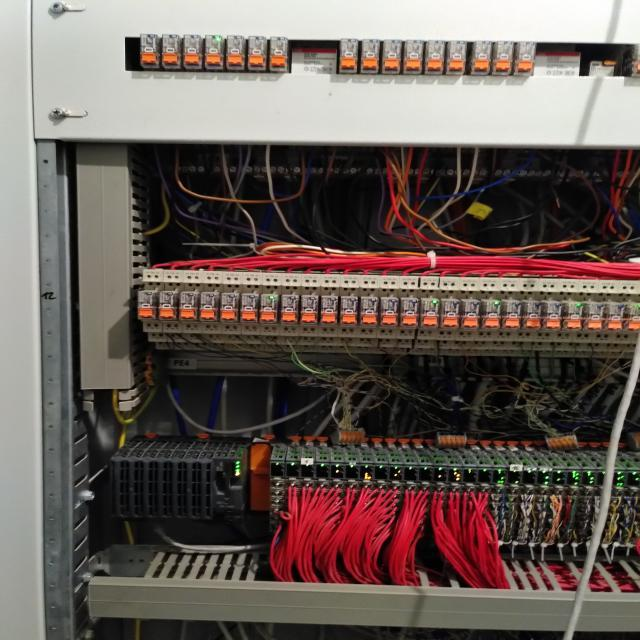Dimmer: (291, 47, 338, 74), (537, 51, 580, 76)
Leitungsschutzschalter: (588, 56, 619, 76)
Relais: (181, 35, 204, 69), (161, 34, 182, 67), (338, 38, 358, 72), (226, 35, 244, 70), (362, 40, 380, 74), (516, 42, 534, 76), (472, 41, 490, 75), (140, 36, 159, 68), (247, 37, 266, 69), (205, 36, 223, 69), (270, 38, 288, 71), (494, 42, 512, 75), (448, 42, 466, 75), (404, 41, 422, 74), (426, 41, 443, 75), (137, 291, 157, 319), (420, 298, 439, 327), (340, 296, 358, 326), (585, 303, 604, 331), (482, 300, 501, 328), (384, 40, 400, 73), (159, 291, 177, 319), (380, 298, 398, 326), (301, 295, 318, 324), (361, 297, 378, 326), (606, 303, 624, 330), (543, 303, 561, 330), (523, 302, 541, 329), (180, 292, 197, 320), (261, 295, 278, 323), (321, 296, 338, 324), (462, 300, 479, 328), (401, 298, 418, 326), (564, 303, 581, 330), (221, 294, 238, 321), (201, 293, 217, 321), (242, 294, 258, 322), (442, 299, 458, 327), (503, 301, 519, 329), (281, 296, 297, 323), (627, 303, 640, 331)
